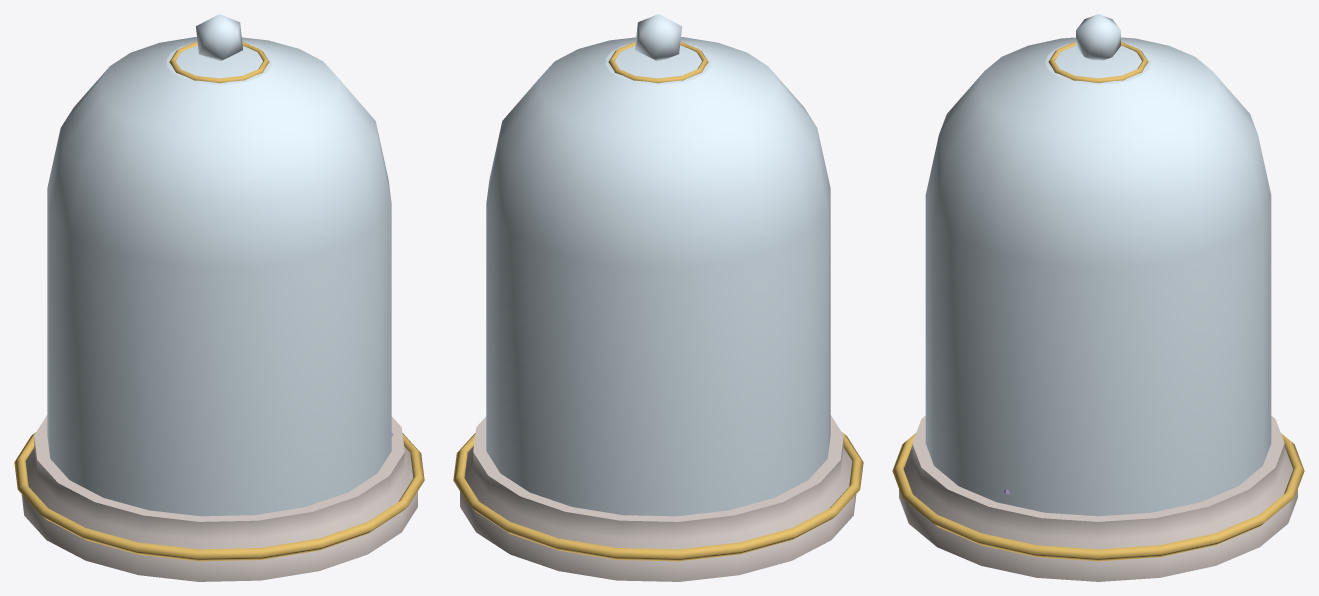
File: terrarium_bell.glb
3 views of the same model, side by side, from view 1: azimuth 30°, elevation 25°; view 2: azimuth 150°, elevation 25°; view 3: azimuth 270°, elevation 25° (orthographic).
Parts seen in each view (by area): view 1: terrarium_bell; view 2: terrarium_bell; view 3: terrarium_bell.
Part boxes in pixels (x1,y1,x2,y2): terrarium_bell: (14,14,424,581); terrarium_bell: (453,14,863,581); terrarium_bell: (892,14,1304,581).
Size of what is drawn, in the model's own units: 0.3 by 0.4 by 0.3.
